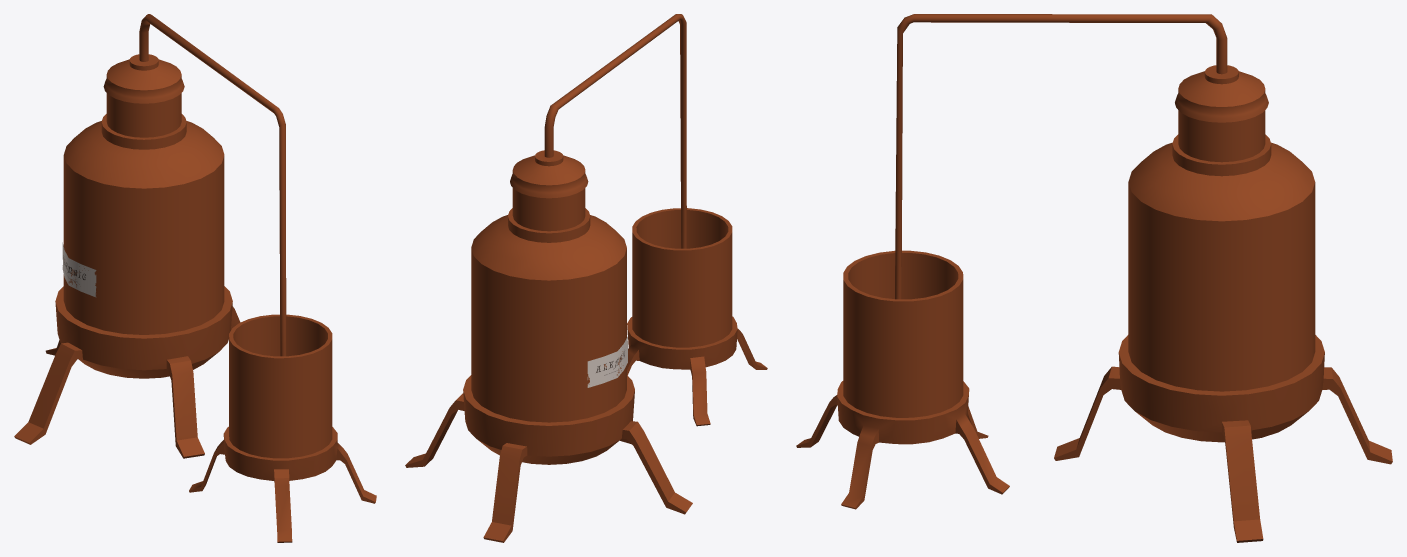
Rendered from alembic_3DModel.FBX.
The picture shows the model from 3 angles, left to right: view 1: azimuth 30°, elevation 25°; view 2: azimuth 150°, elevation 25°; view 3: azimuth 270°, elevation 25°; orthographic projection. The views are drawn at different scales.
Parts seen in each view (by area): view 1: Plane002; view 2: Plane002; view 3: Plane002.
Boxes of the visible parts, <box> form: Plane002: <box>14,14,376,542</box>; Plane002: <box>405,14,767,542</box>; Plane002: <box>796,14,1392,542</box>.
Bounding box in the file's own units: 52.15 × 72.38 × 86.16.
Materials: 2 (1 with a texture image).
